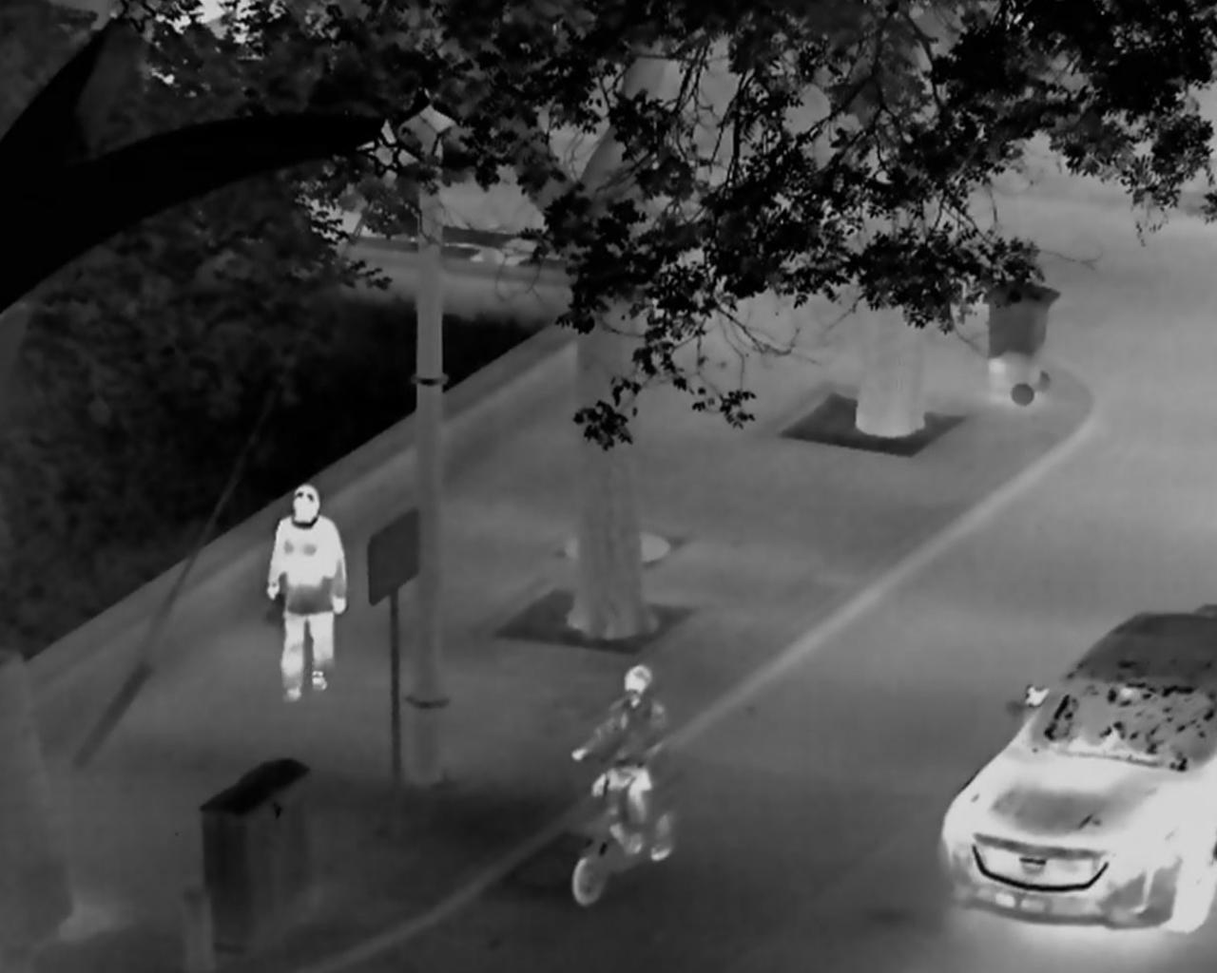person: (570, 662, 669, 852), (265, 485, 348, 701)
